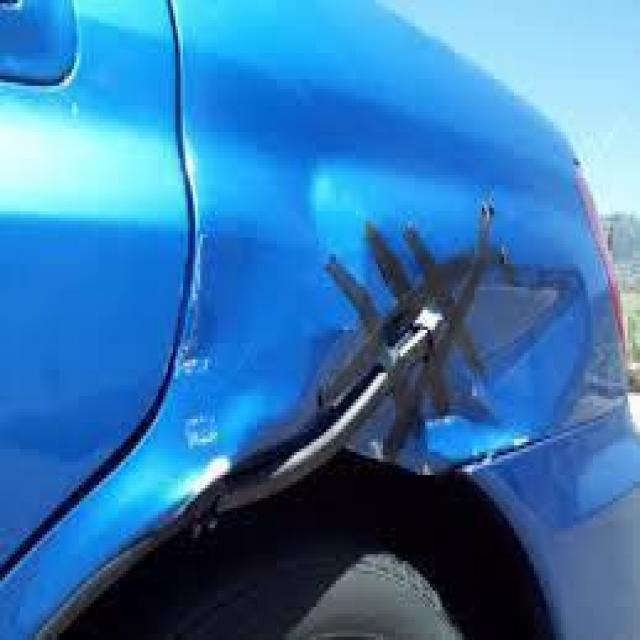damaged: (166, 204, 584, 522)
